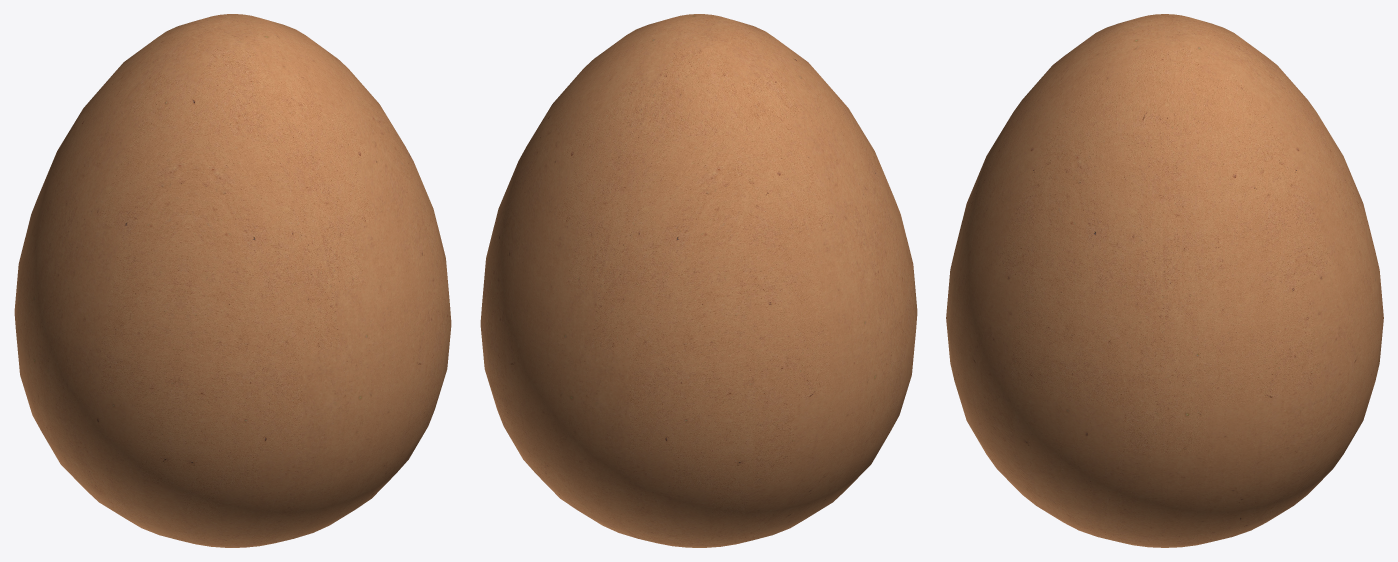
The model's file is egtg.fbx.
3 renders of one model, left to right at view 1: azimuth 30°, elevation 25°; view 2: azimuth 150°, elevation 25°; view 3: azimuth 270°, elevation 25°, orthographic.
Parts seen in each view (by area): view 1: Sphere; view 2: Sphere; view 3: Sphere.
Boxes of the visible parts, box(x1,y1,x2,y2) form: Sphere: box(14, 14, 451, 547); Sphere: box(480, 14, 917, 547); Sphere: box(946, 14, 1383, 547).
Size of the model in its own units: 200 by 251 by 200.
